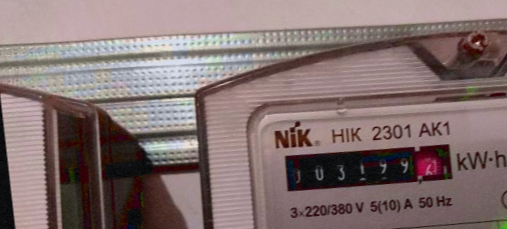0: (289, 163, 303, 185), (312, 161, 326, 182)
1: (356, 156, 368, 176)
3: (334, 161, 347, 181)
6: (423, 160, 435, 177)
9: (377, 154, 390, 175), (398, 154, 411, 174)
screen: (276, 131, 463, 205)
